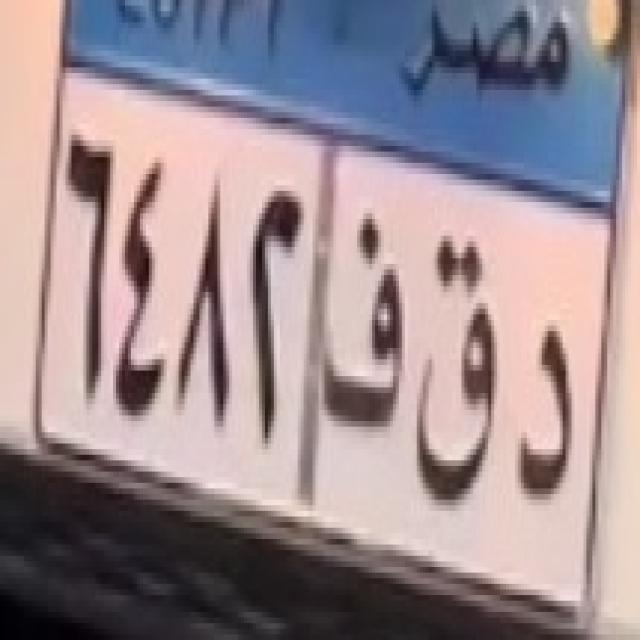2: (244, 180, 304, 452)
4: (109, 155, 180, 426)
6: (49, 128, 127, 412)
8: (172, 174, 244, 440)
F: (323, 196, 409, 458)
Taa: (414, 240, 502, 510)
daal: (513, 314, 585, 516)
